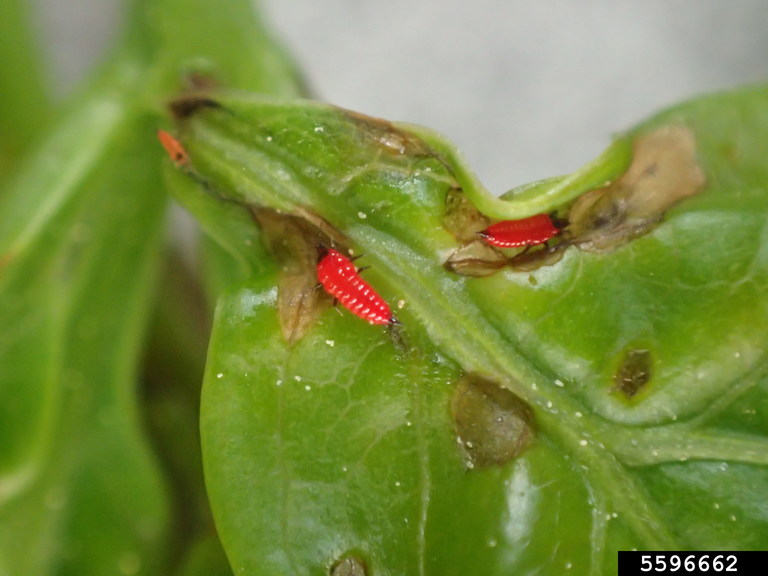Thrips: (309, 238, 405, 354), (478, 213, 586, 254)
